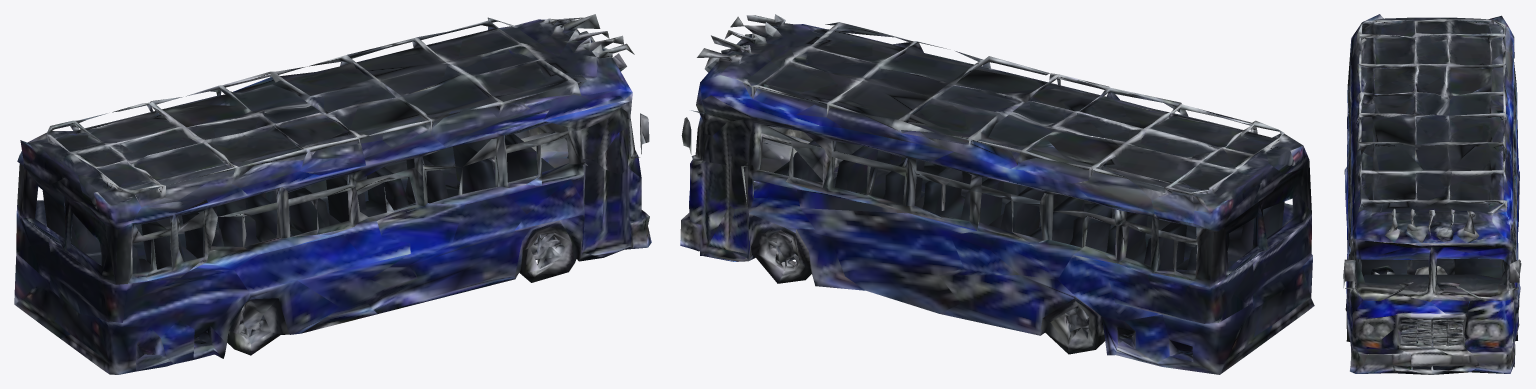
Rendered from leyland_1.glb.
3 renders of one model, left to right at view 1: azimuth 30°, elevation 25°; view 2: azimuth 150°, elevation 25°; view 3: azimuth 270°, elevation 25°, orthographic. The views are drawn at different scales.
Visible parts, largest first — view 1: tripo_node_a6cce581-2013-4235-90c8-87a85631530d; view 2: tripo_node_a6cce581-2013-4235-90c8-87a85631530d; view 3: tripo_node_a6cce581-2013-4235-90c8-87a85631530d.
Part boxes in pixels (left/top/right/bottom): tripo_node_a6cce581-2013-4235-90c8-87a85631530d: left=14, top=14, right=651, bottom=374; tripo_node_a6cce581-2013-4235-90c8-87a85631530d: left=680, top=14, right=1314, bottom=374; tripo_node_a6cce581-2013-4235-90c8-87a85631530d: left=1343, top=14, right=1521, bottom=374.
Bounding box in the file's own units: 0.9954 × 0.3456 × 0.34.
1 material, 1 textured.
